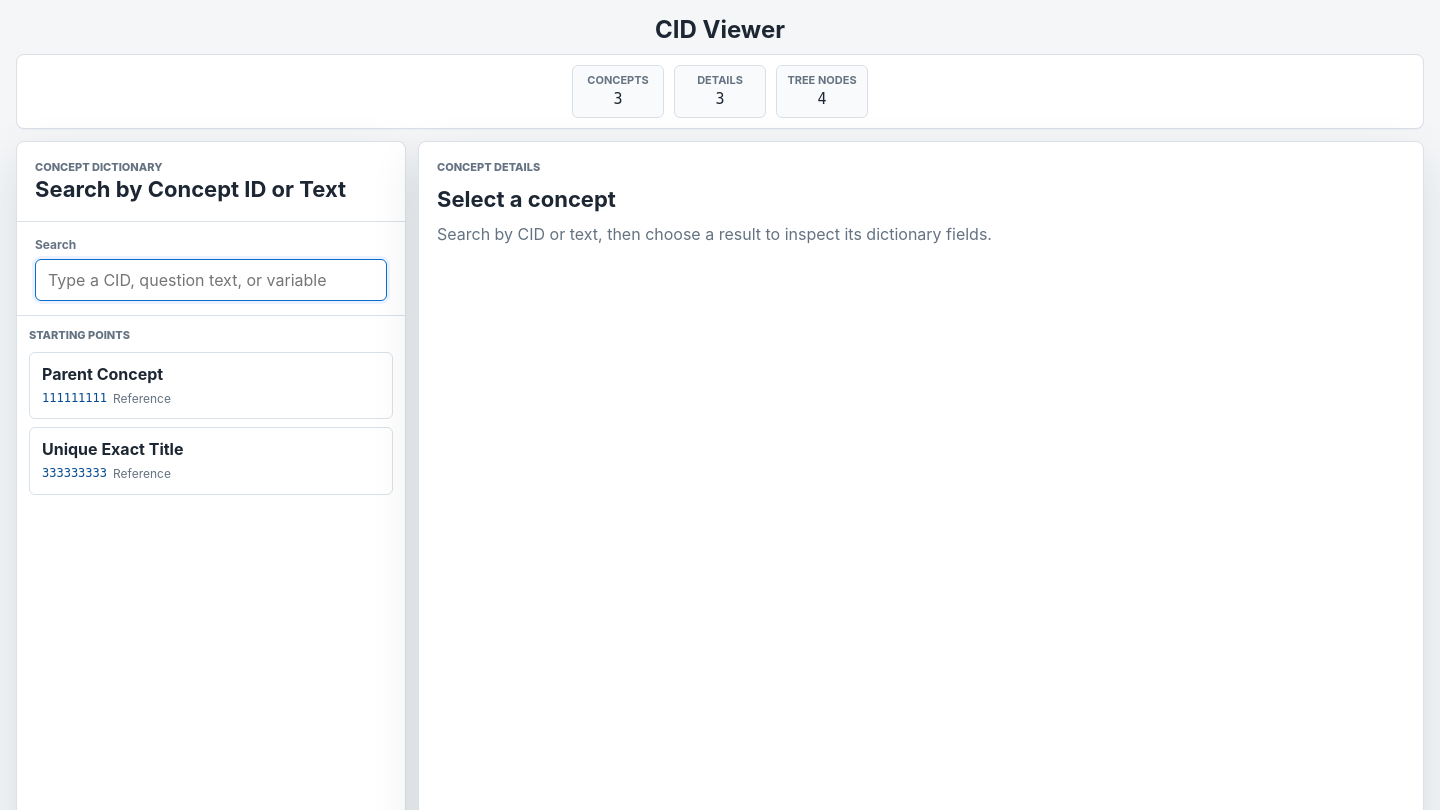
App search and selection › auto-selects exact CID searches without showing redundant status text
Step 1. Type "111111111" into the search field labelled "Search" → (211, 280), box [35,259,387,301]
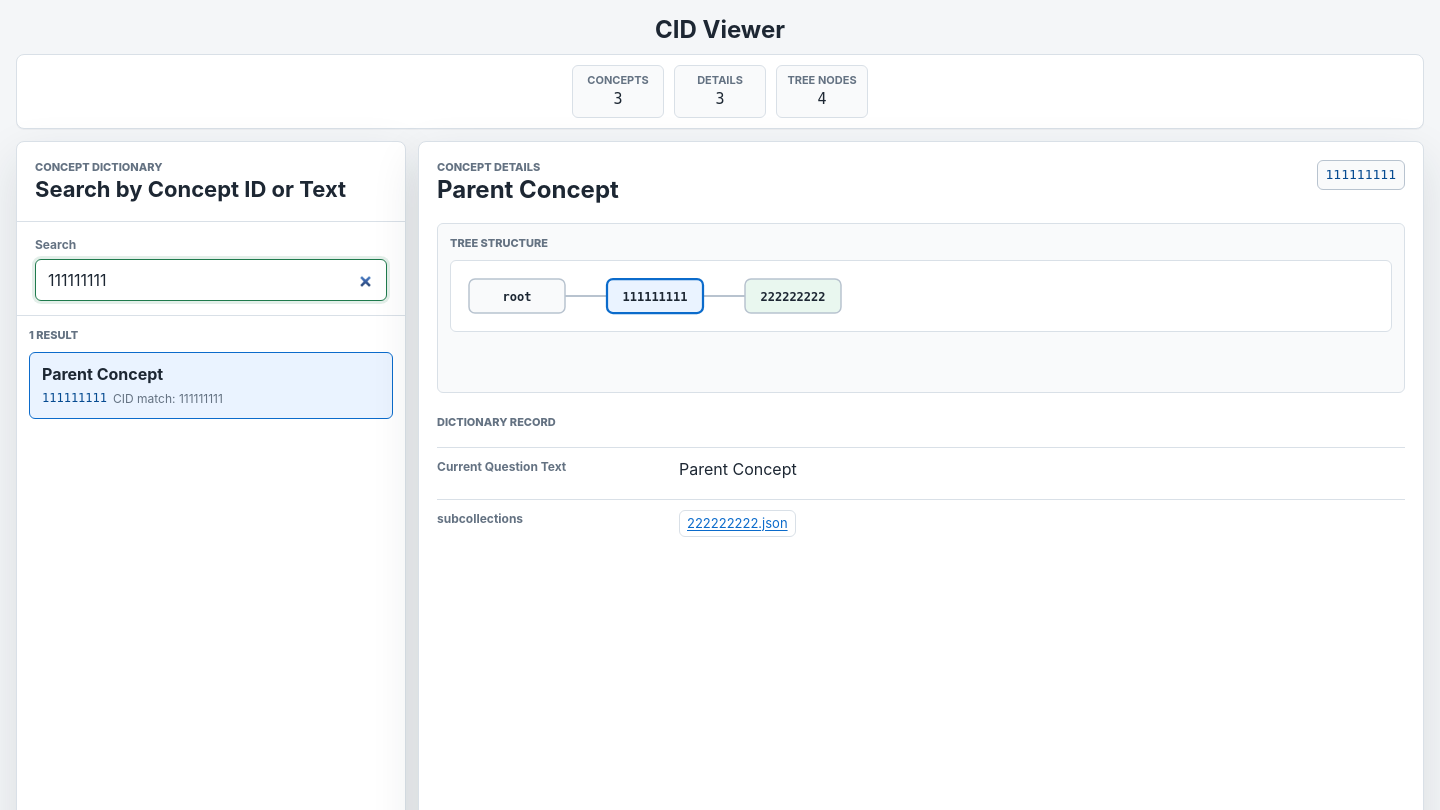
Now the heading "Parent Concept" is shown, box [437,176,619,205]
